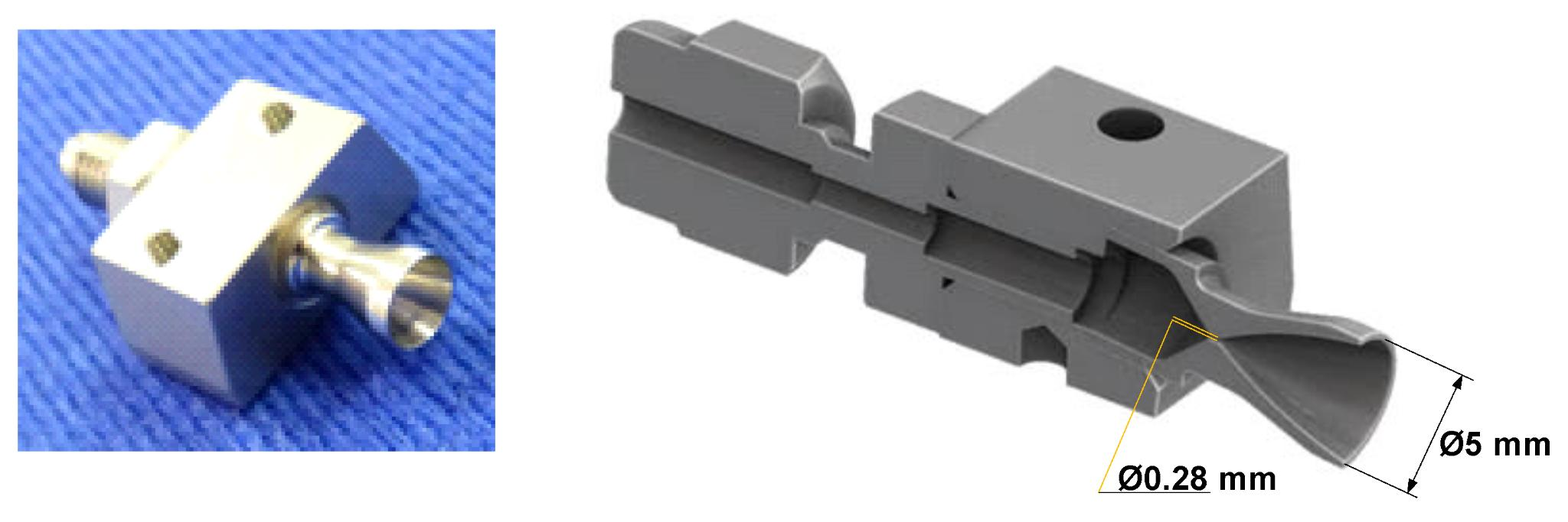thruster: (1198, 289, 1401, 467), (289, 214, 456, 353)
